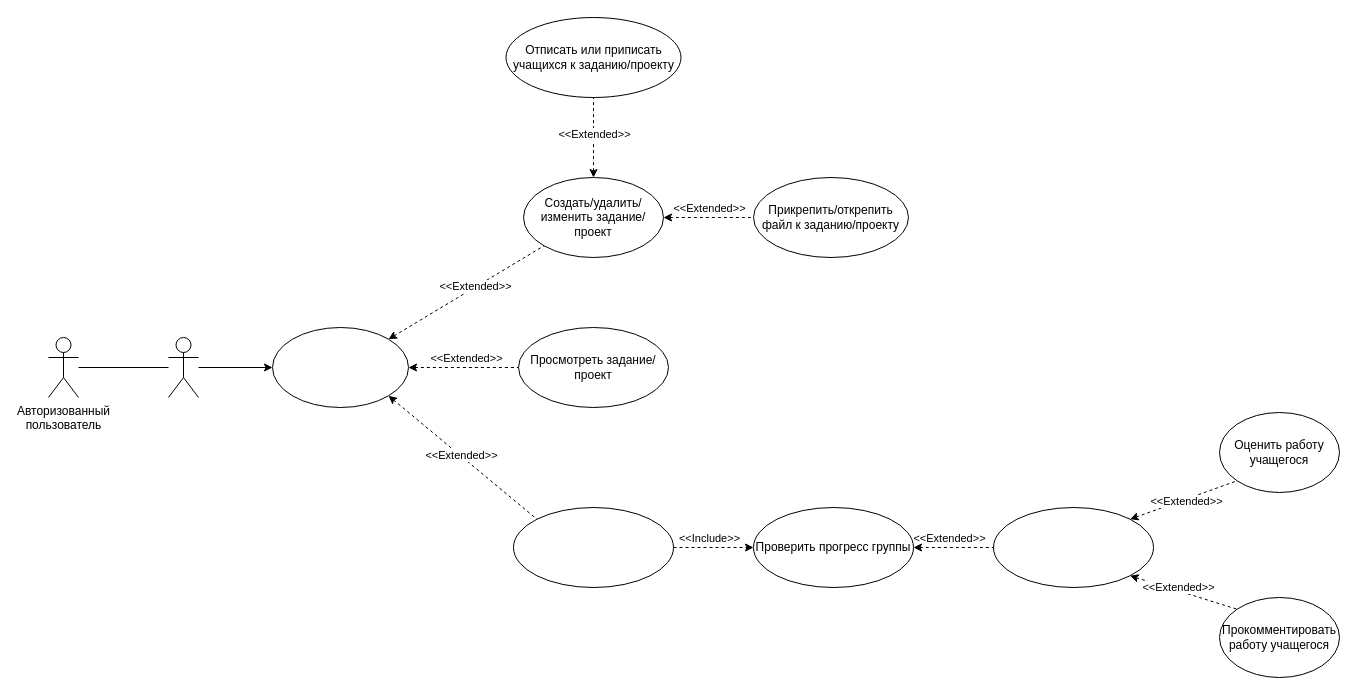
This 1357x695 diagram has some shape labels left out. The shapes that lost their labels are listed below. From the top down, each one's box as (x1, y1, x2, y2) in pixels, then its label:
(168, 336, 198, 398): Преподаватель
(272, 326, 408, 408): Взаимодействие с заданиями/проектами
(512, 506, 674, 588): Проверить состояние выполнения задания/проекта
(992, 506, 1154, 588): Проверить прогресс конкретного учащегося
